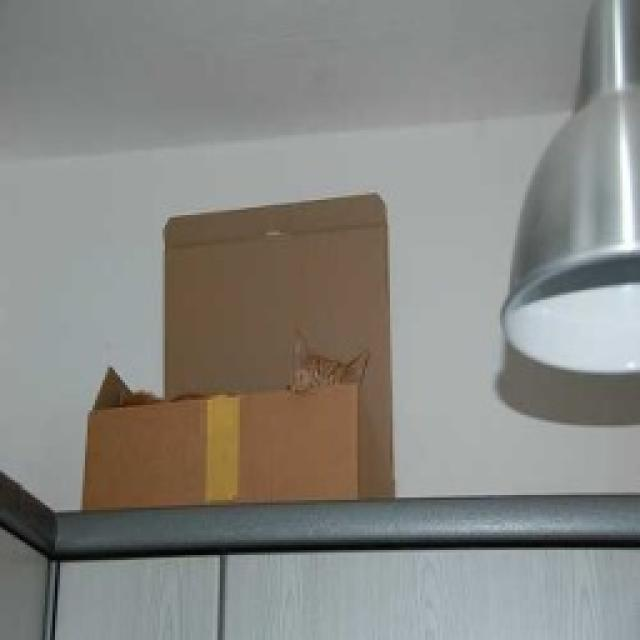box: (74, 165, 422, 530)
